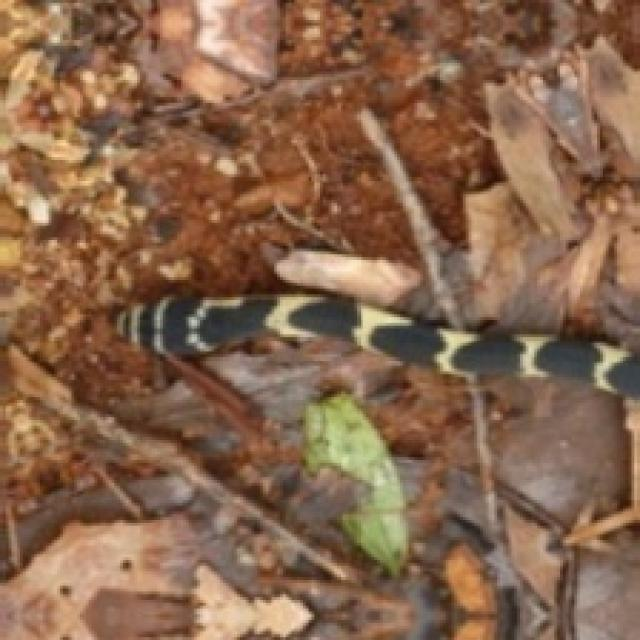king cobra: (114, 294, 637, 397)
